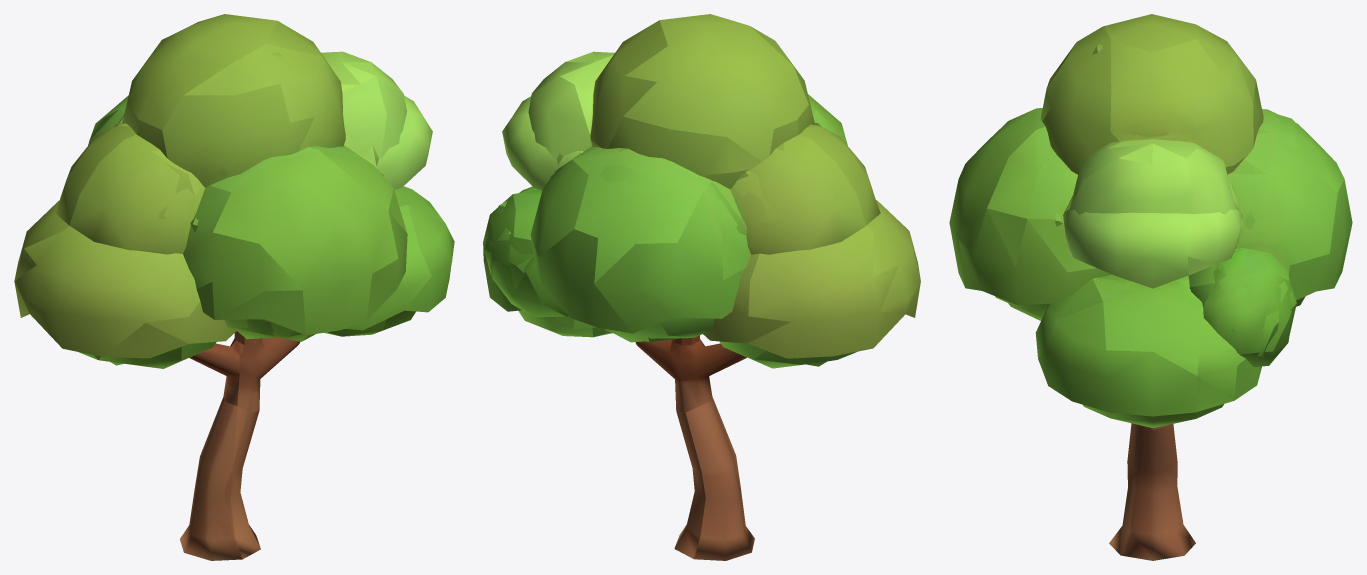
Rendered from polytree_new.glb.
The picture shows the model from 3 angles, left to right: view 1: azimuth 30°, elevation 25°; view 2: azimuth 150°, elevation 25°; view 3: azimuth 270°, elevation 25°; orthographic projection.
Visible parts, largest first — view 1: mesh_node; view 2: mesh_node; view 3: mesh_node.
Boxes of the visible parts, <box> form: mesh_node: <box>14,14,454,560</box>; mesh_node: <box>483,14,920,560</box>; mesh_node: <box>949,14,1352,560</box>.
Size of the model in its own units: 0.8359 by 1 by 0.6934.
Materials: 1 (1 with a texture image).
